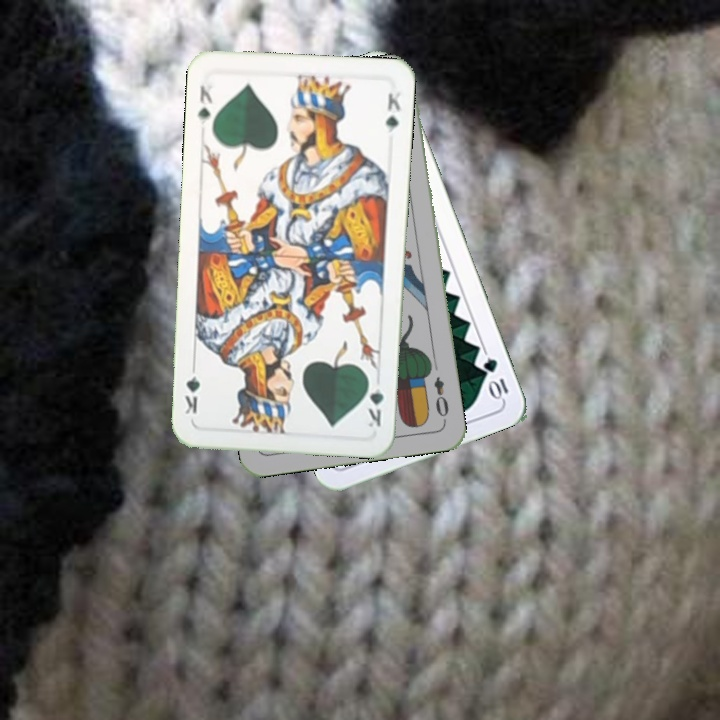EO: (430, 373, 452, 424)
G10: (479, 354, 511, 402)
GK: (364, 373, 386, 430), (193, 81, 215, 128)
